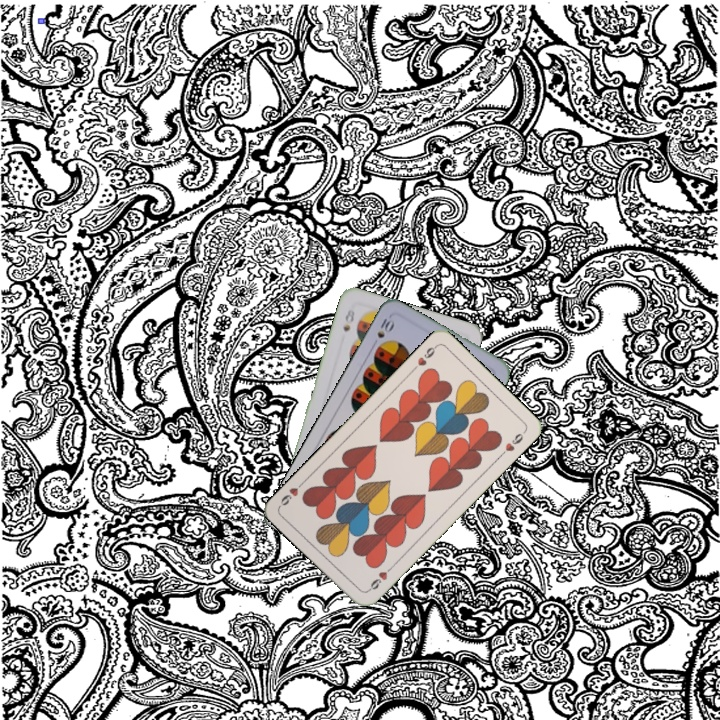H9: (408, 341, 440, 374), (363, 562, 396, 594)
S10: (368, 312, 397, 350)
S8: (339, 304, 357, 334)
